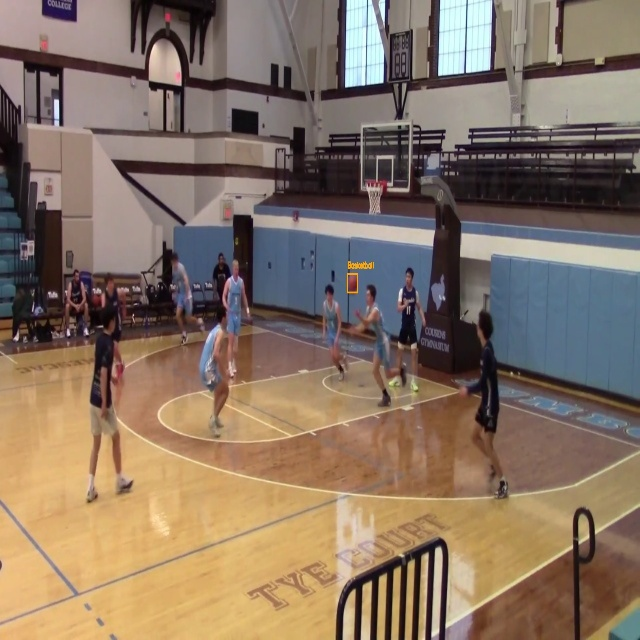Basketball: (348, 274, 357, 292)
